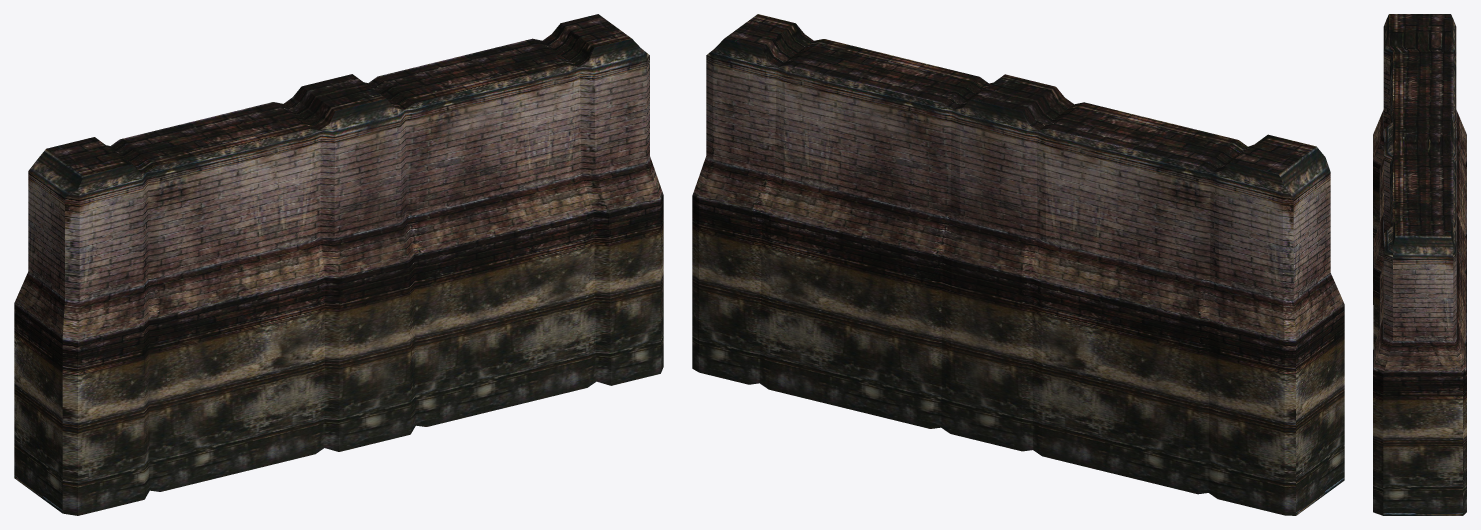
The model's file is Sf_wall_1.FBX.
3 renders of one model, left to right at view 1: azimuth 30°, elevation 25°; view 2: azimuth 150°, elevation 25°; view 3: azimuth 270°, elevation 25°, orthographic. The views are drawn at different scales.
Parts seen in each view (by area): view 1: Box01; view 2: Box01; view 3: Box01.
Part boxes in pixels (x1,y1,x2,y2): Box01: [14, 14, 663, 515]; Box01: [692, 14, 1344, 515]; Box01: [1373, 14, 1466, 515].
Size of the model in its own units: 203 by 106 by 33.35.
Materials: 1 (1 with a texture image).
